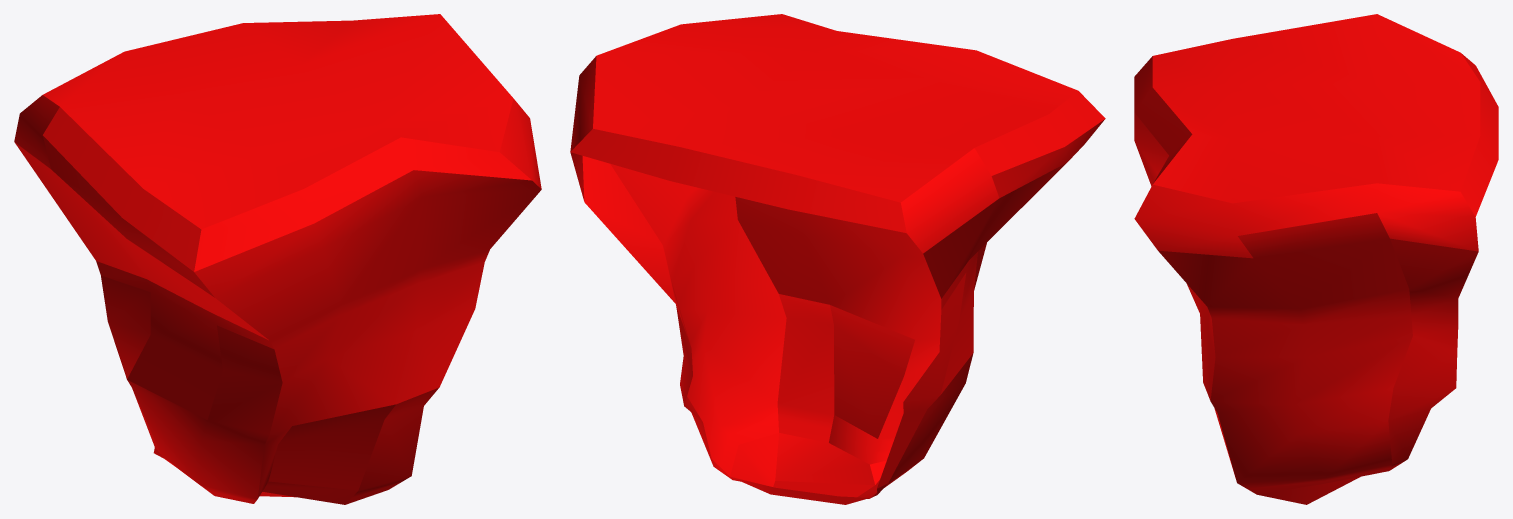
File: Plat3_big_Mesh.FBX
3 views of the same model, side by side, from view 1: azimuth 30°, elevation 25°; view 2: azimuth 150°, elevation 25°; view 3: azimuth 270°, elevation 25° (orthographic). The views are drawn at different scales.
Parts seen in each view (by area): view 1: Plattform3; view 2: Plattform3; view 3: Plattform3.
Boxes of the visible parts, x1=… form: Plattform3: x1=14, y1=14, x2=541, y2=504; Plattform3: x1=570, y1=14, x2=1105, y2=504; Plattform3: x1=1134, y1=14, x2=1498, y2=504.
Bounding box in the file's own units: 24 × 23.31 × 20.
